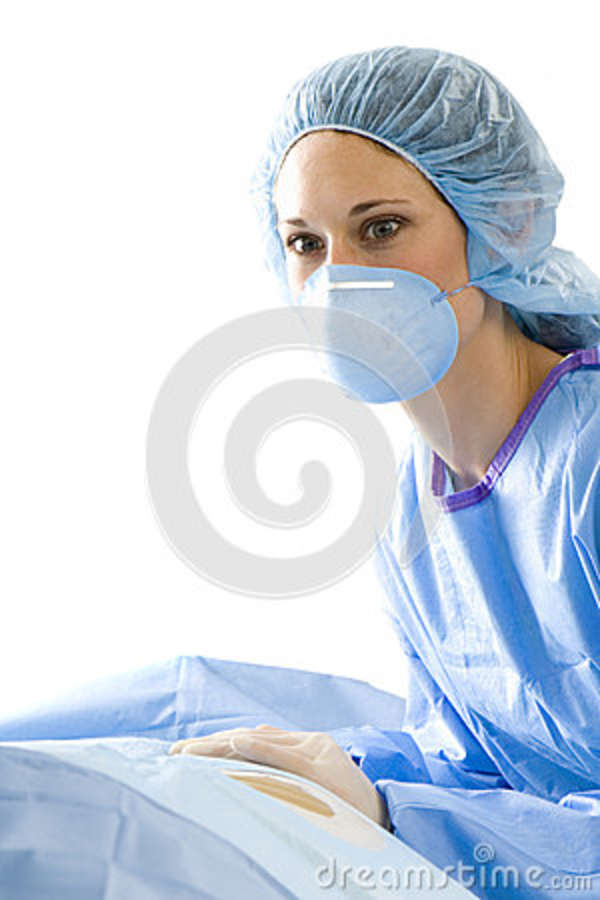mask: (304, 271, 472, 412)
